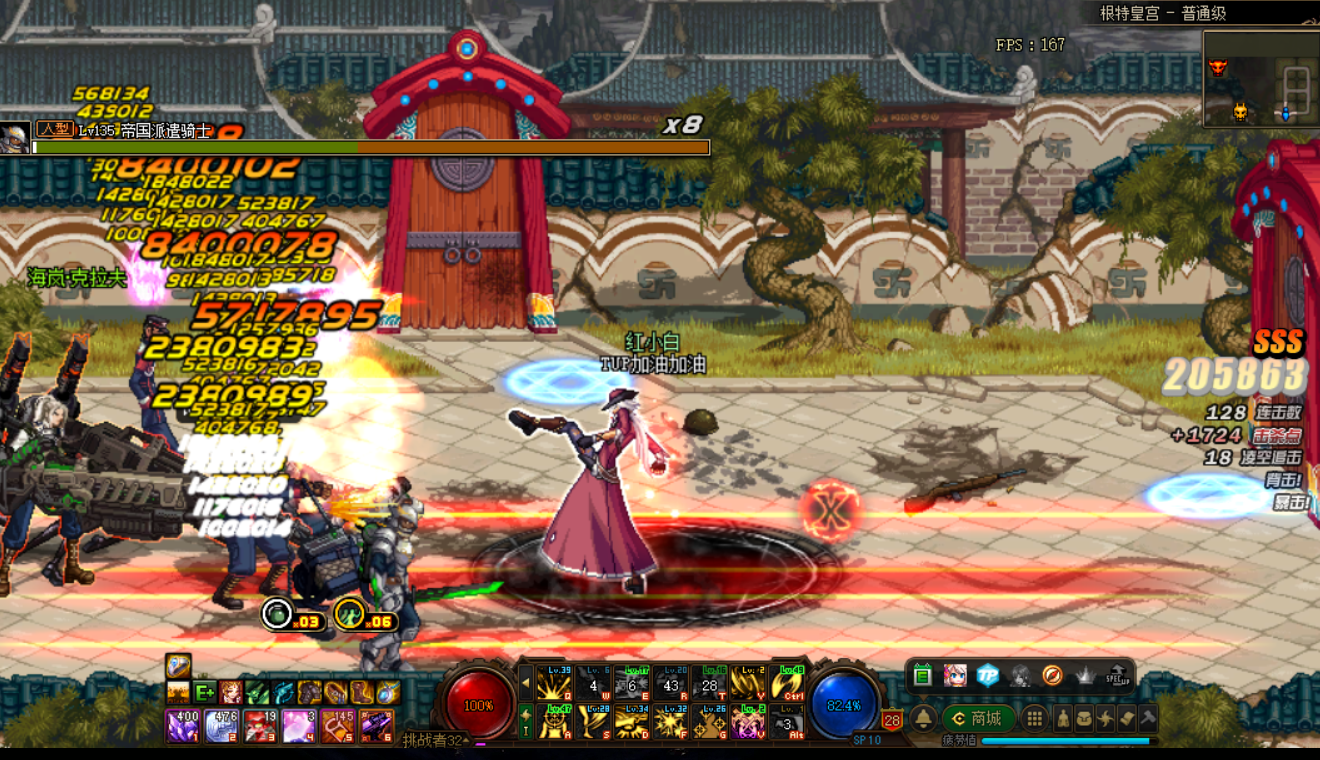monster: (9, 315, 239, 602), (201, 411, 355, 610), (358, 500, 506, 671), (109, 295, 197, 464)
warrior: (509, 361, 677, 606)
